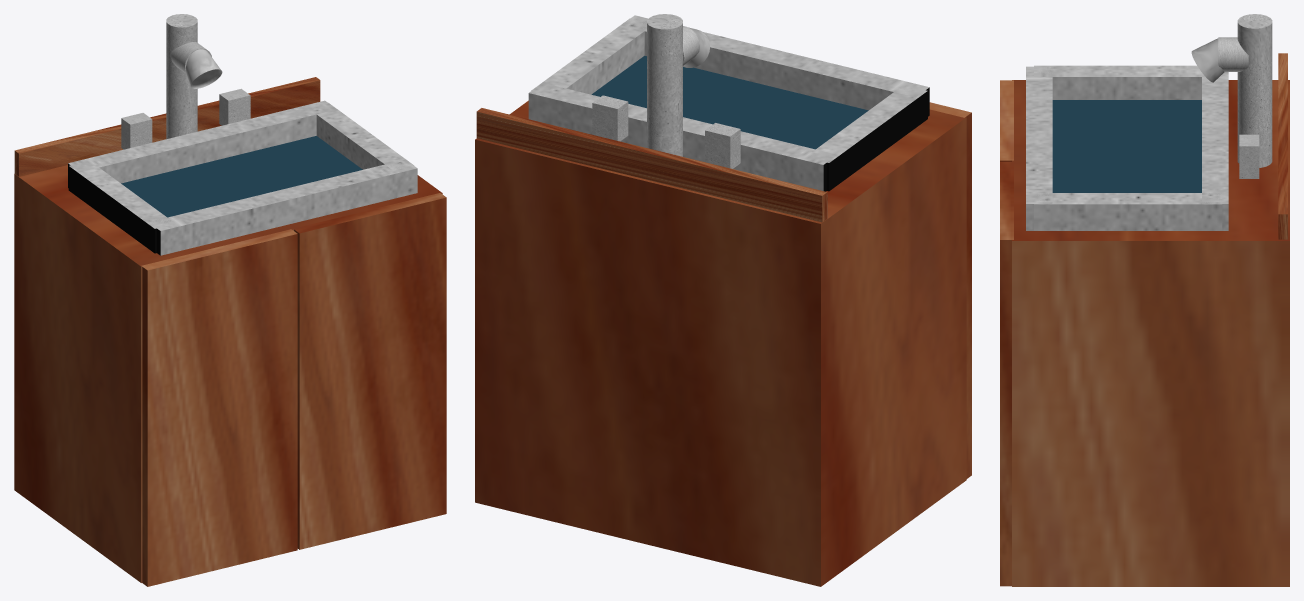
The model's file is sink .fbx.
3 renders of one model, left to right at view 1: azimuth 30°, elevation 25°; view 2: azimuth 150°, elevation 25°; view 3: azimuth 270°, elevation 25°, orthographic. The views are drawn at different scales.
Parts seen in each view (by area): view 1: Cylinder003; view 2: Cylinder003; view 3: Cylinder003.
Part boxes in pixels (bbox=[...]): Cylinder003: bbox=[14, 14, 446, 586]; Cylinder003: bbox=[475, 14, 971, 586]; Cylinder003: bbox=[1000, 14, 1289, 586].
Size of the model in its own units: 183 by 257 by 139.
1 material, 1 textured.
